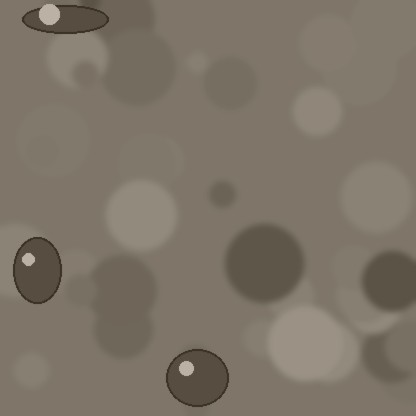gota: (166, 351, 228, 411), (13, 239, 61, 309), (22, 6, 108, 36)
